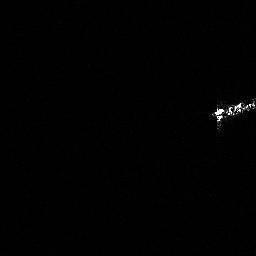ship: (208, 100, 256, 128)
